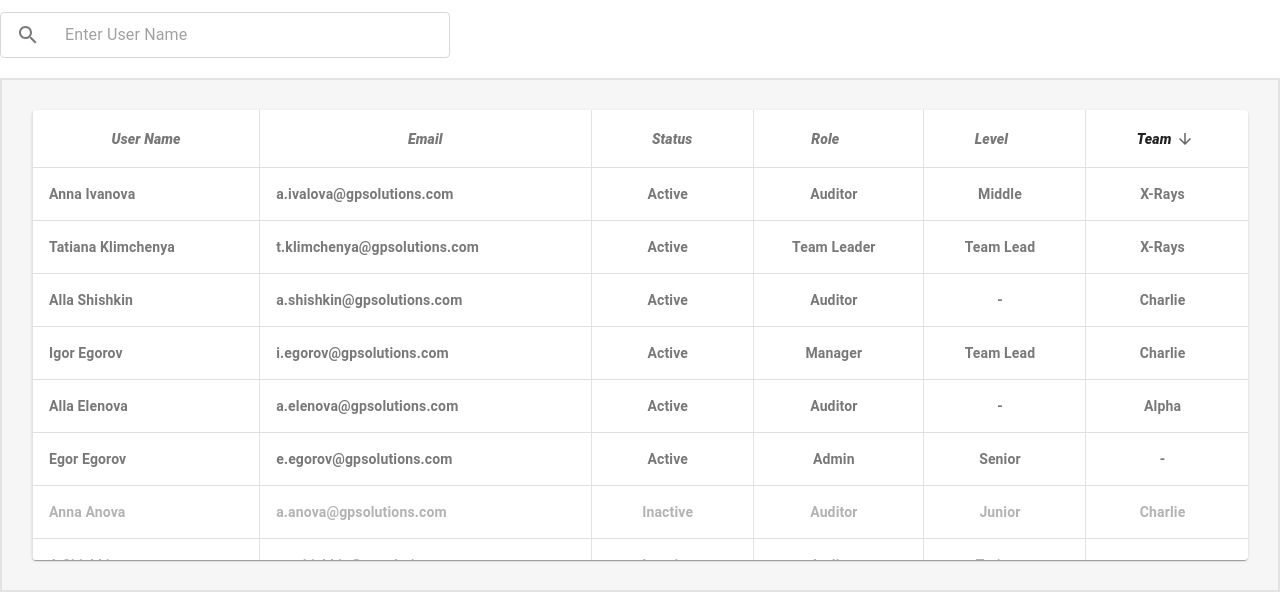
Main Users table tests › Main Users table has search element
Type "Hello" into the field at (257, 35), box [65,19,449,51]
Wait 2000 ms
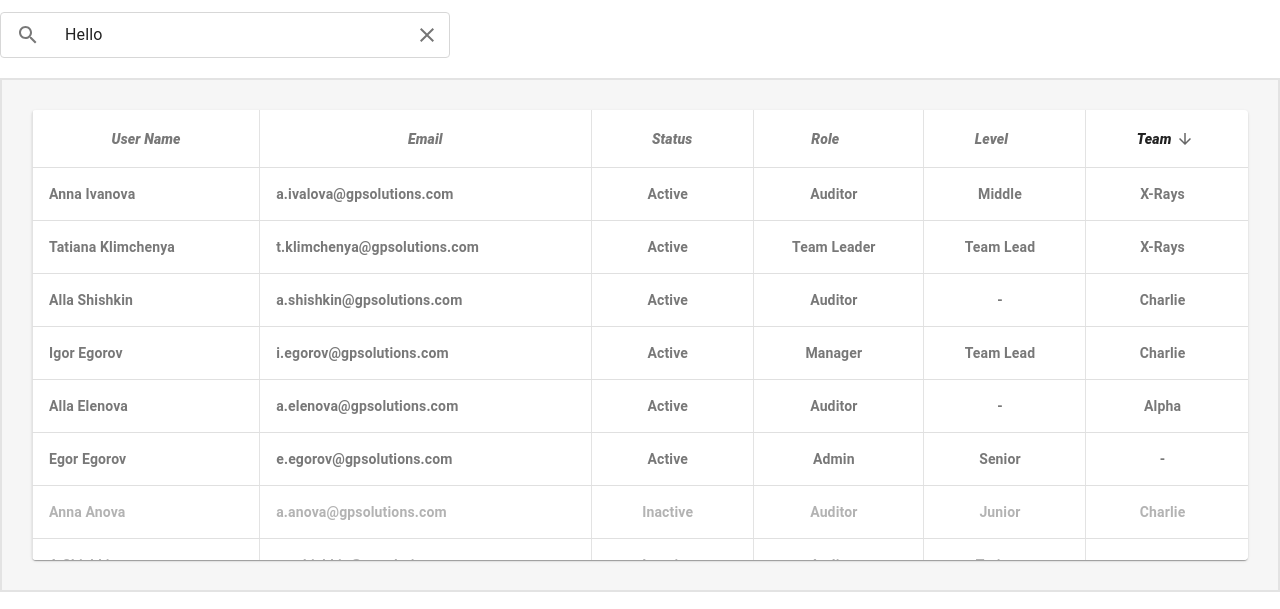
expect the button with test id "reset-button" is shown: met
Click the button with test id "reset-button" at (427, 35), box [405,13,449,57]
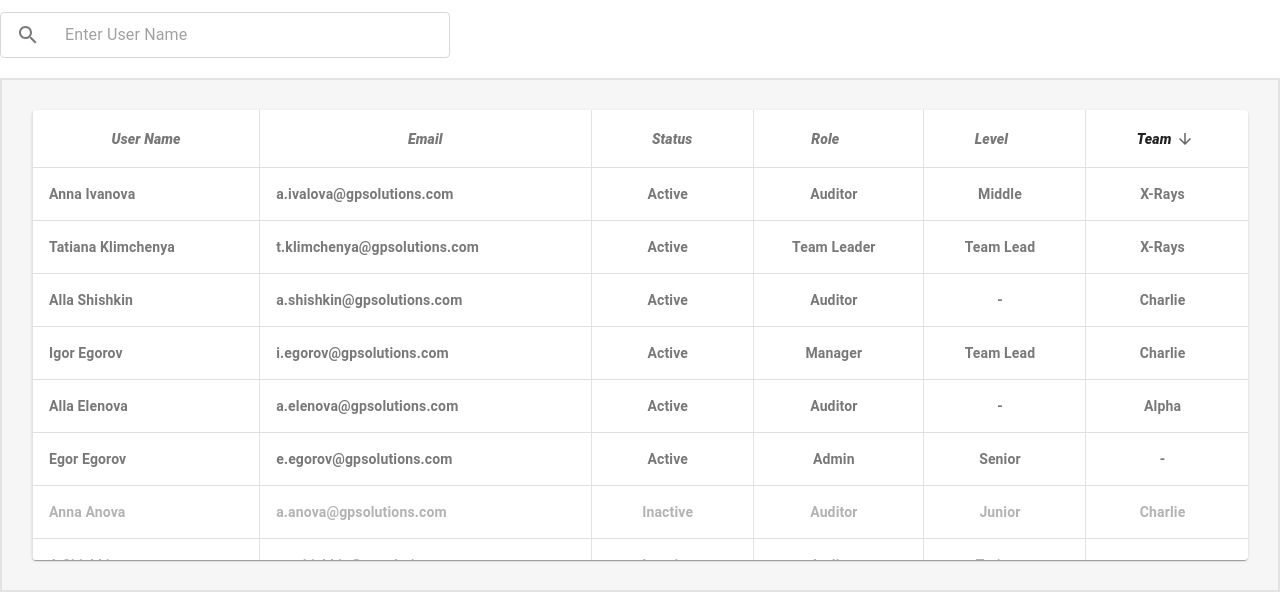
expect the field is empty: met, box [65,19,449,51]
